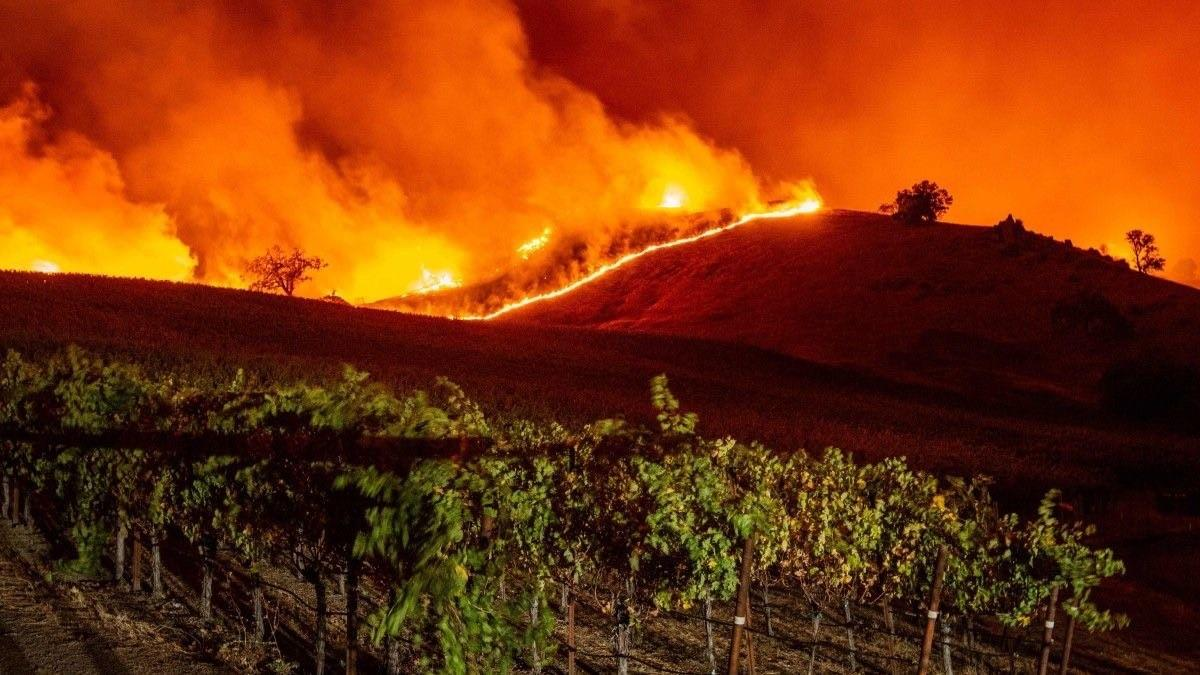fire: (480, 189, 799, 315), (398, 257, 486, 307)
smoke: (216, 0, 739, 179), (0, 9, 205, 260)
